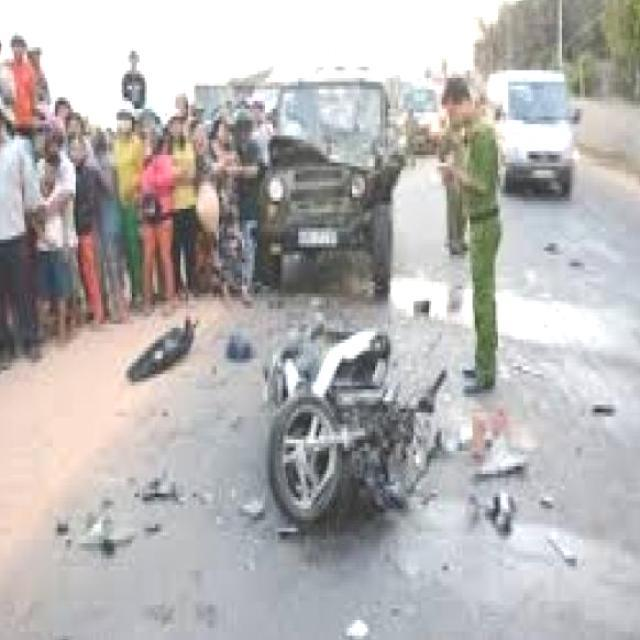accident: (255, 280, 464, 571), (265, 65, 403, 288)
